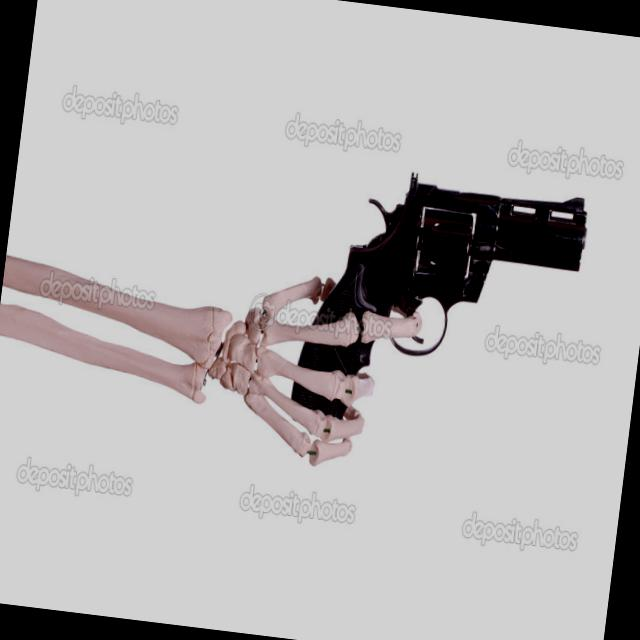handgun: (282, 153, 594, 460)
